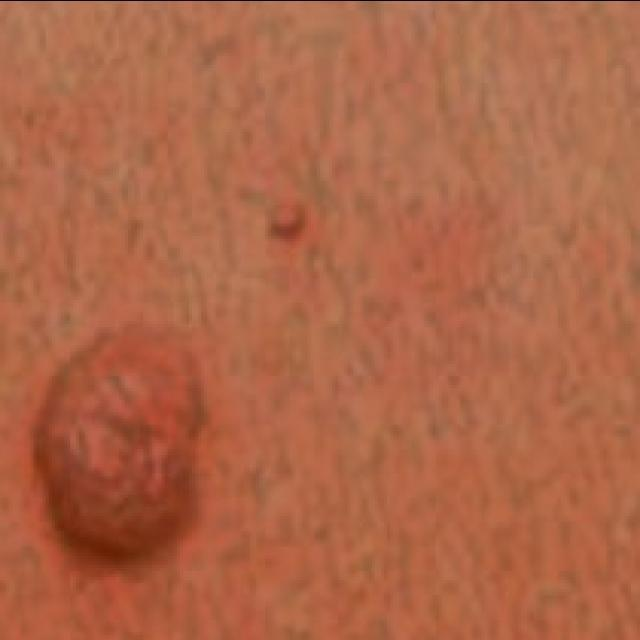wart: (30, 320, 192, 573)
